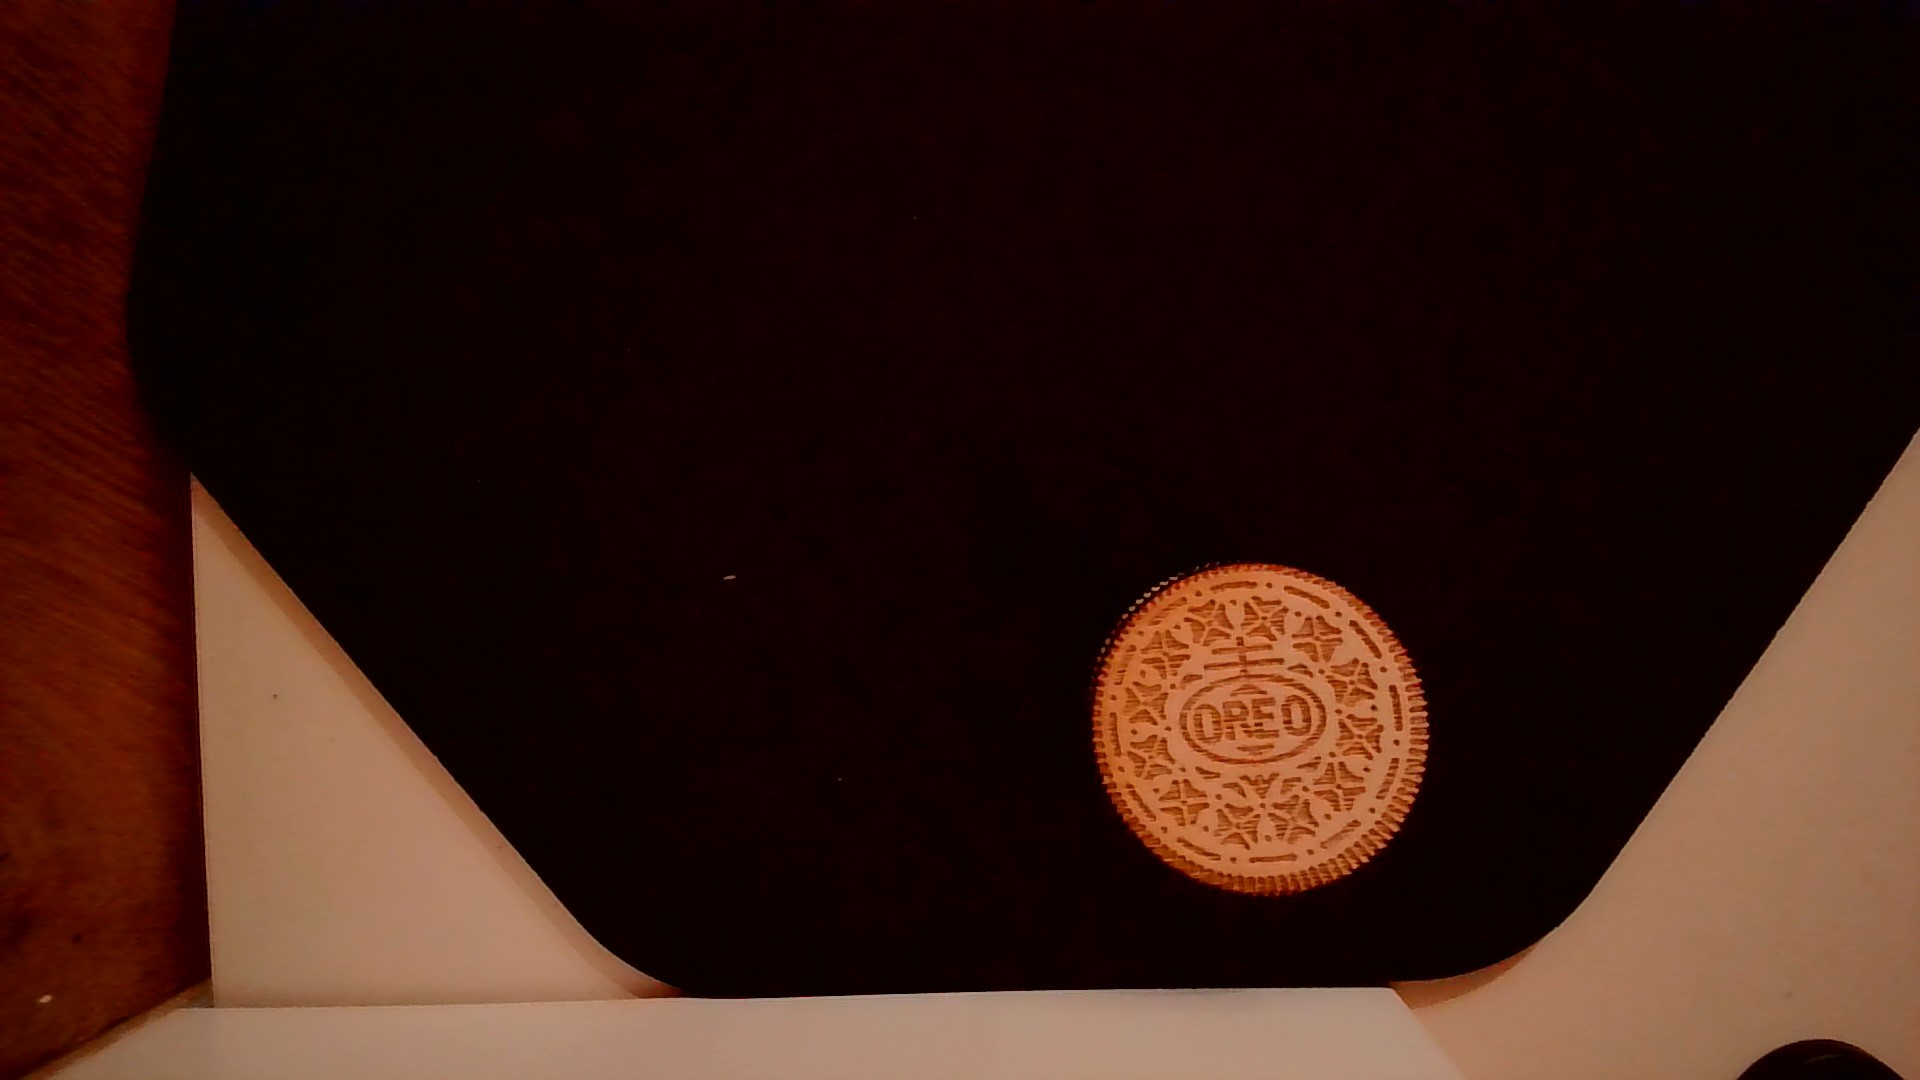Oréo: (1071, 546, 1439, 909)
